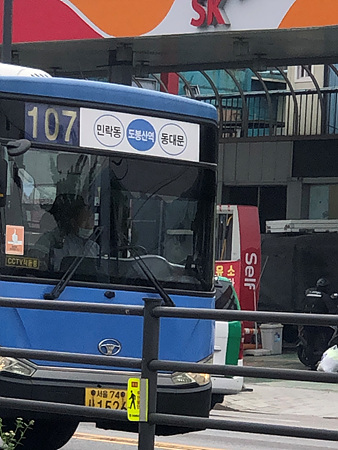bnum: (25, 103, 80, 143)
